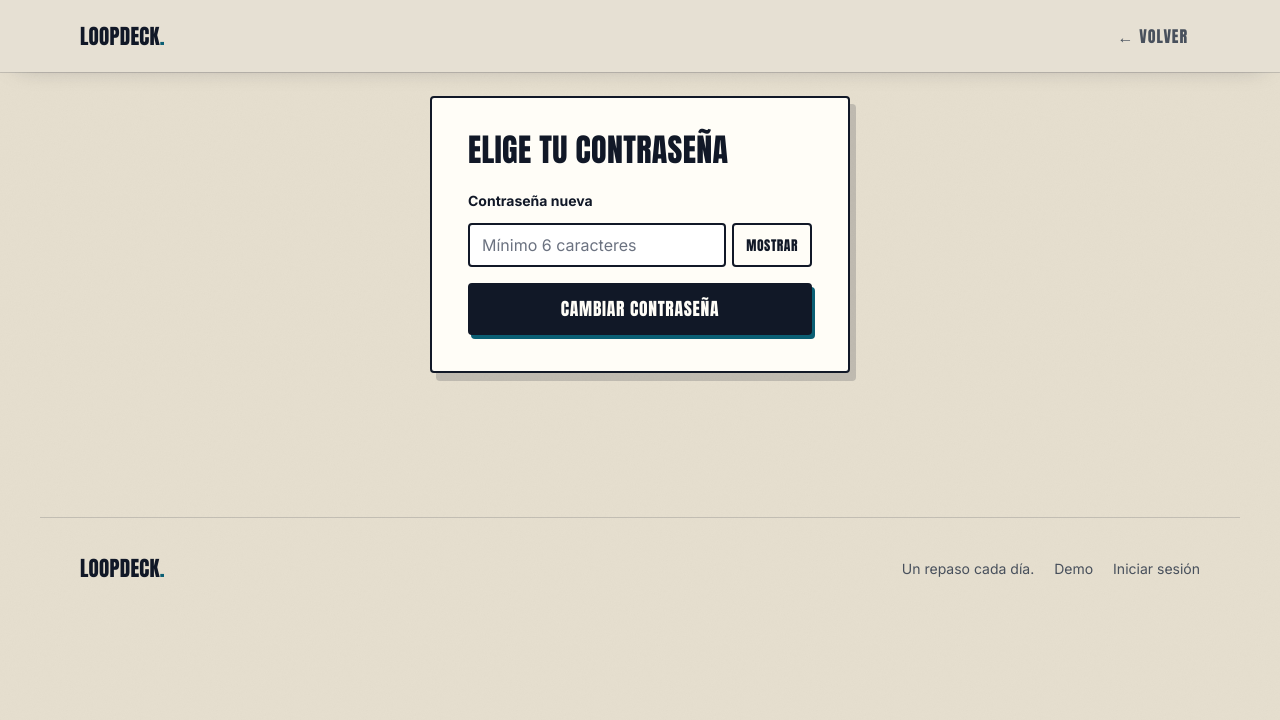
ResetPasswordPage › sends the token read from the link with the new password and confirms the change
In the password field labelled "Contraseña nueva": {"x": 597, "y": 245} [468,223,726,267], type "clave-nueva-1"
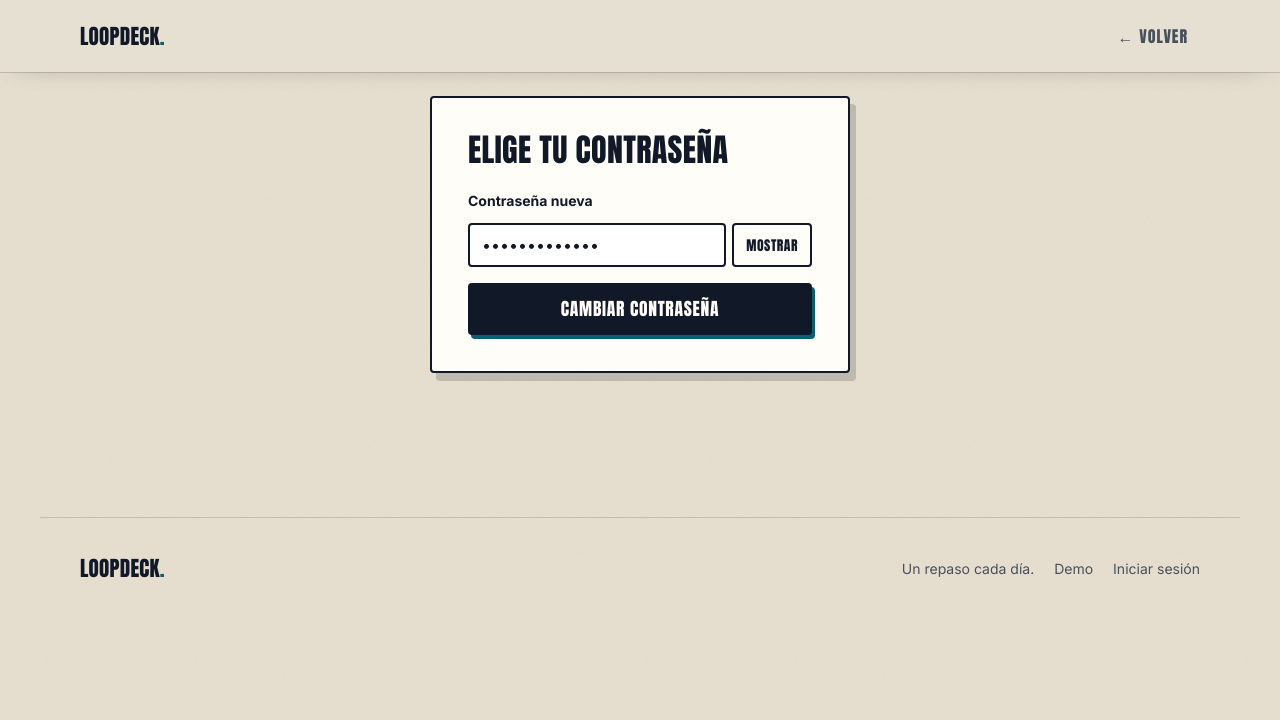
Click the button "Cambiar contraseña": {"x": 640, "y": 309} [468,283,812,335]
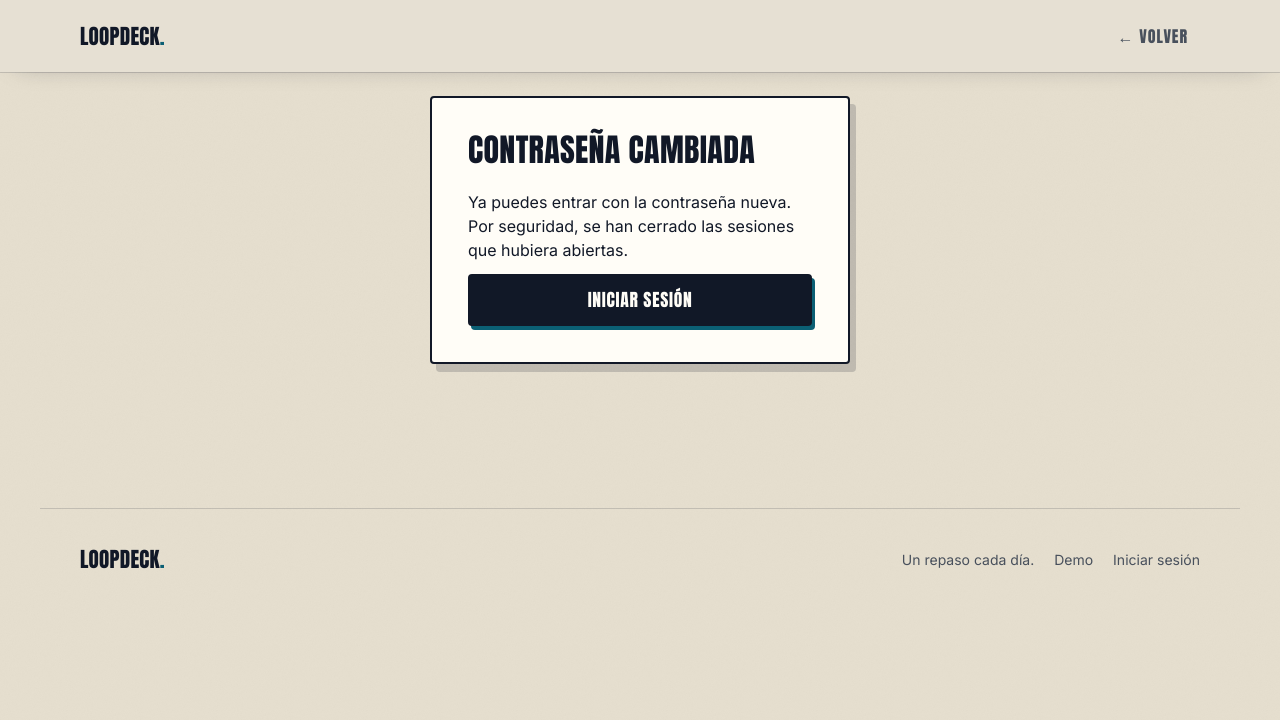
Expected: the heading "Contraseña cambiada" is shown, [468,125,755,174]
